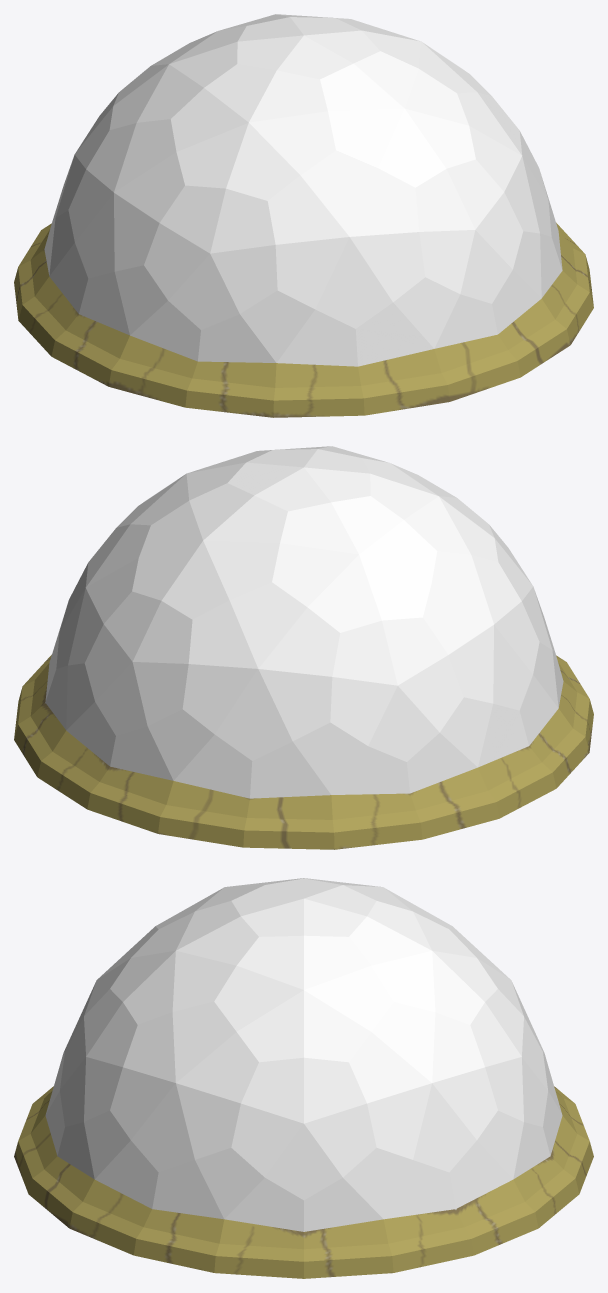
Rendered from Door_Schalter.fbx.
3 views of the same model, one above another, from view 1: azimuth 30°, elevation 25°; view 2: azimuth 150°, elevation 25°; view 3: azimuth 270°, elevation 25° (orthographic).
Visible parts, largest first — view 1: Icosphere; view 2: Icosphere; view 3: Icosphere.
Boxes of the visible parts, box(x1,y1,x2,y2) form: Icosphere: box(14, 14, 593, 417); Icosphere: box(14, 446, 593, 849); Icosphere: box(14, 878, 593, 1278).
Size of the model in its own units: 1.07 by 0.5677 by 1.08.
1 material, 1 textured.
